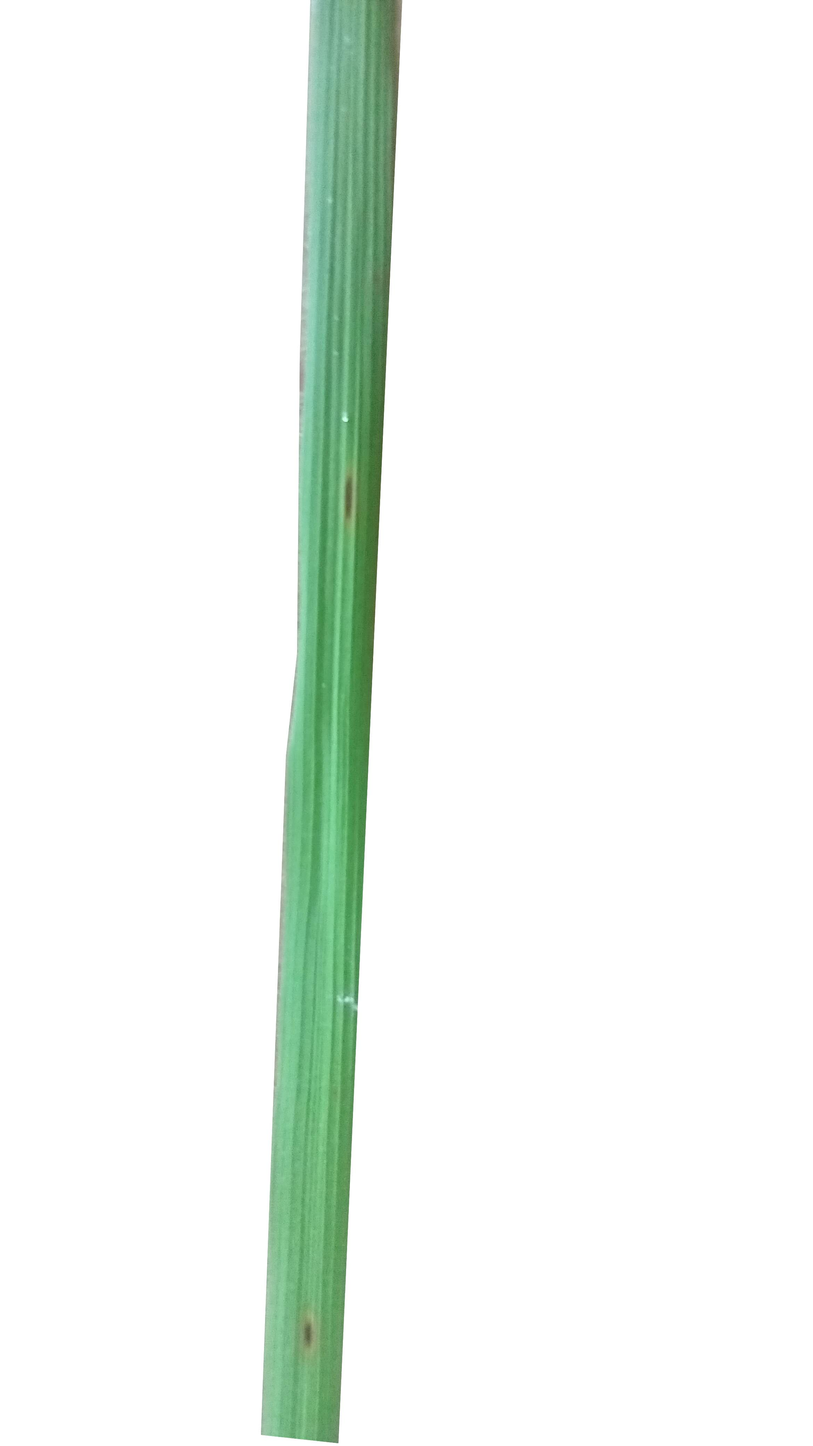Brown spot: (323, 462, 379, 521)
